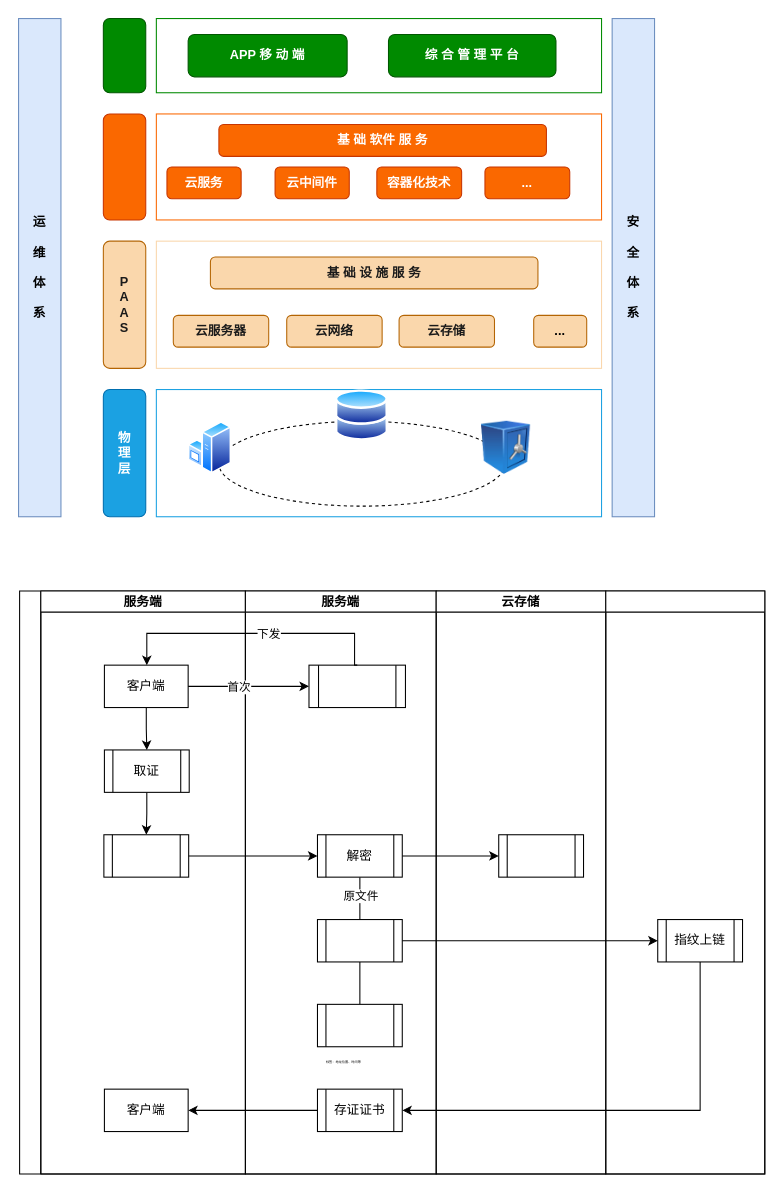
The diagram is 783 pixels wide and 1192 high, and some of its shapes have lost their labels. Each missing label, with the box of its shape:
I A A S: (102, 113, 146, 220)
加密: (103, 834, 189, 877)
加密存储: (498, 834, 584, 877)
区块链: (605, 590, 765, 1174)
取证环节: (19, 590, 765, 1174)
安全设备: (474, 421, 537, 474)
应 用 层: (102, 17, 146, 93)
提取指纹: (316, 918, 402, 962)
提取标签: (316, 1003, 402, 1047)
数据中心: (335, 389, 388, 441)
服务器: (188, 421, 231, 474)
申请公钥: (308, 664, 405, 708)
网络: (218, 420, 505, 506)
